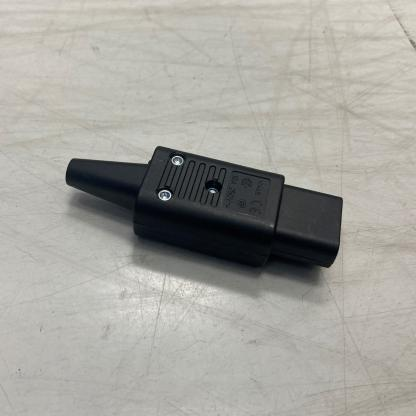SP0000006: (29, 102, 404, 329)
